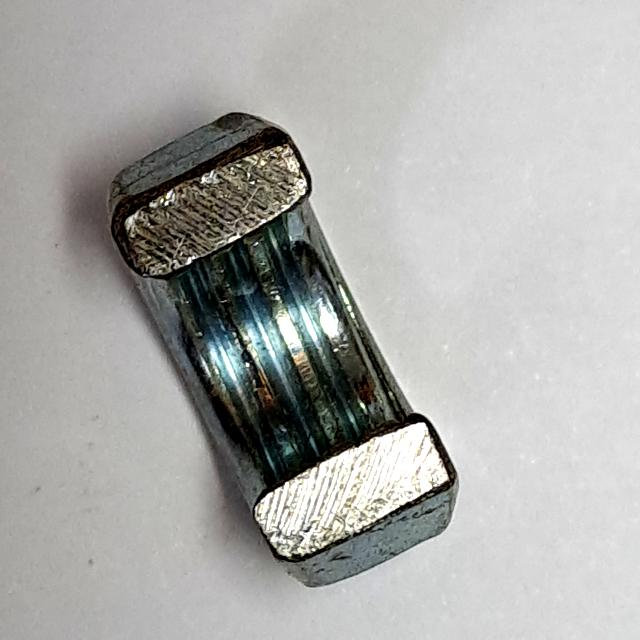Side-Fracture: (93, 94, 477, 600)
